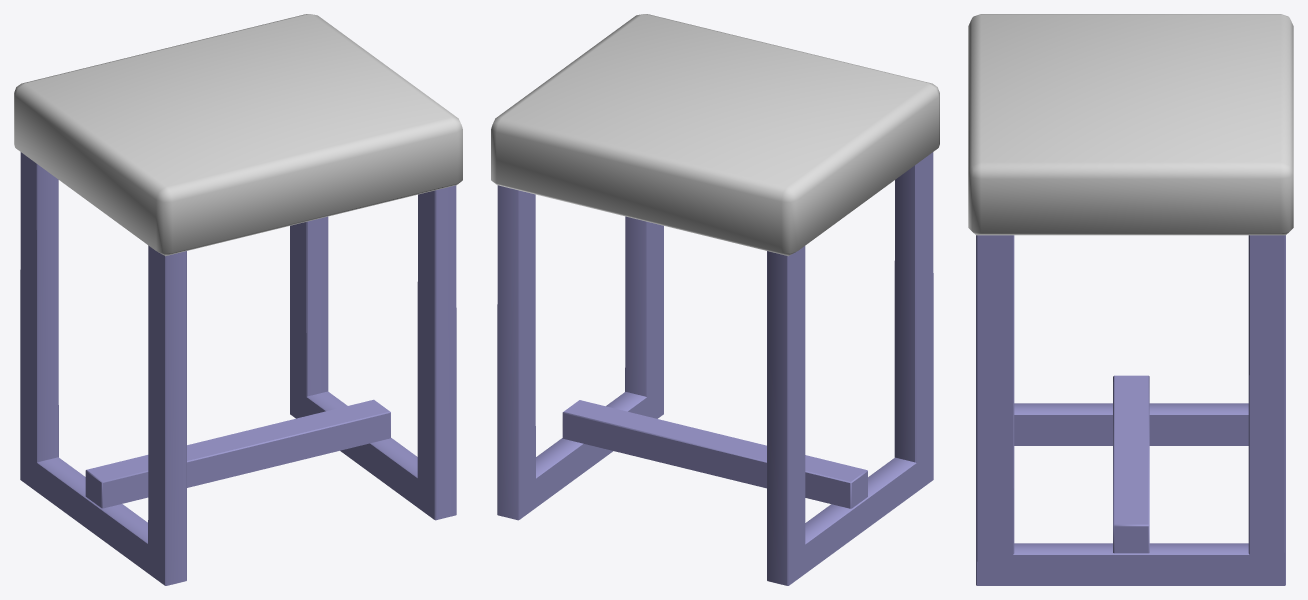
File: DZJY002.FBX
3 renders of one model, left to right at view 1: azimuth 30°, elevation 25°; view 2: azimuth 150°, elevation 25°; view 3: azimuth 270°, elevation 25°, orthographic. The views are drawn at different scales.
Visible parts, largest first — view 1: DZJY002; view 2: DZJY002; view 3: DZJY002.
Part boxes in pixels (x1=…): DZJY002: x1=14, y1=14, x2=462, y2=585; DZJY002: x1=491, y1=14, x2=939, y2=585; DZJY002: x1=968, y1=14, x2=1293, y2=585.
Bounding box in the file's own units: 75 × 65 × 93.1.
